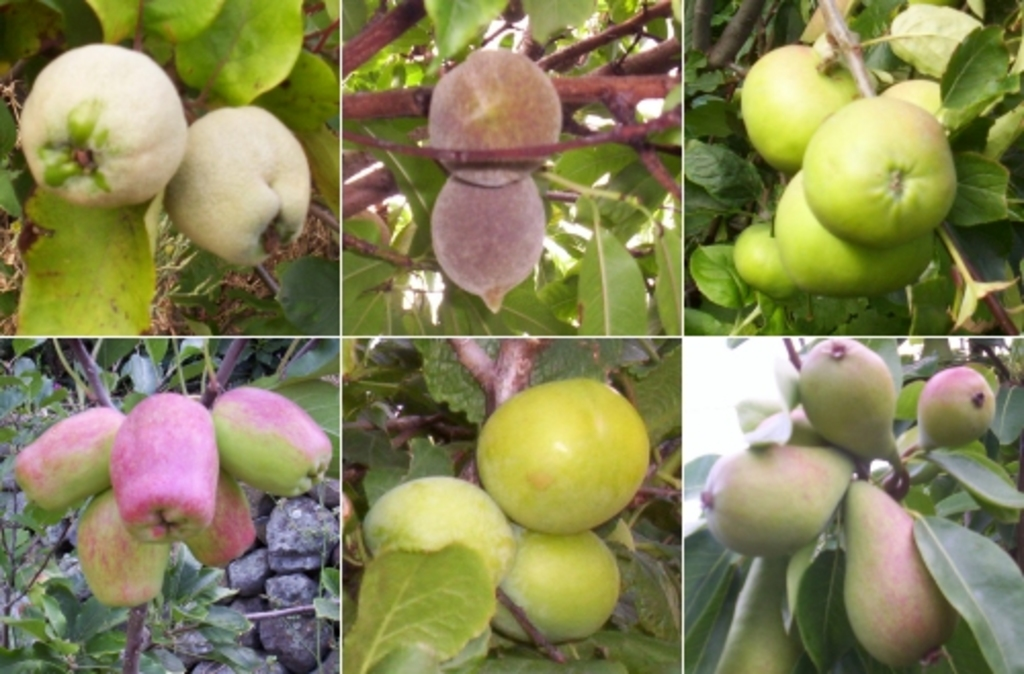Tree: (0, 0, 1024, 672)
